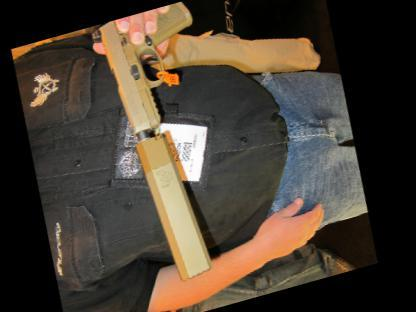pistol: (72, 0, 228, 152)
